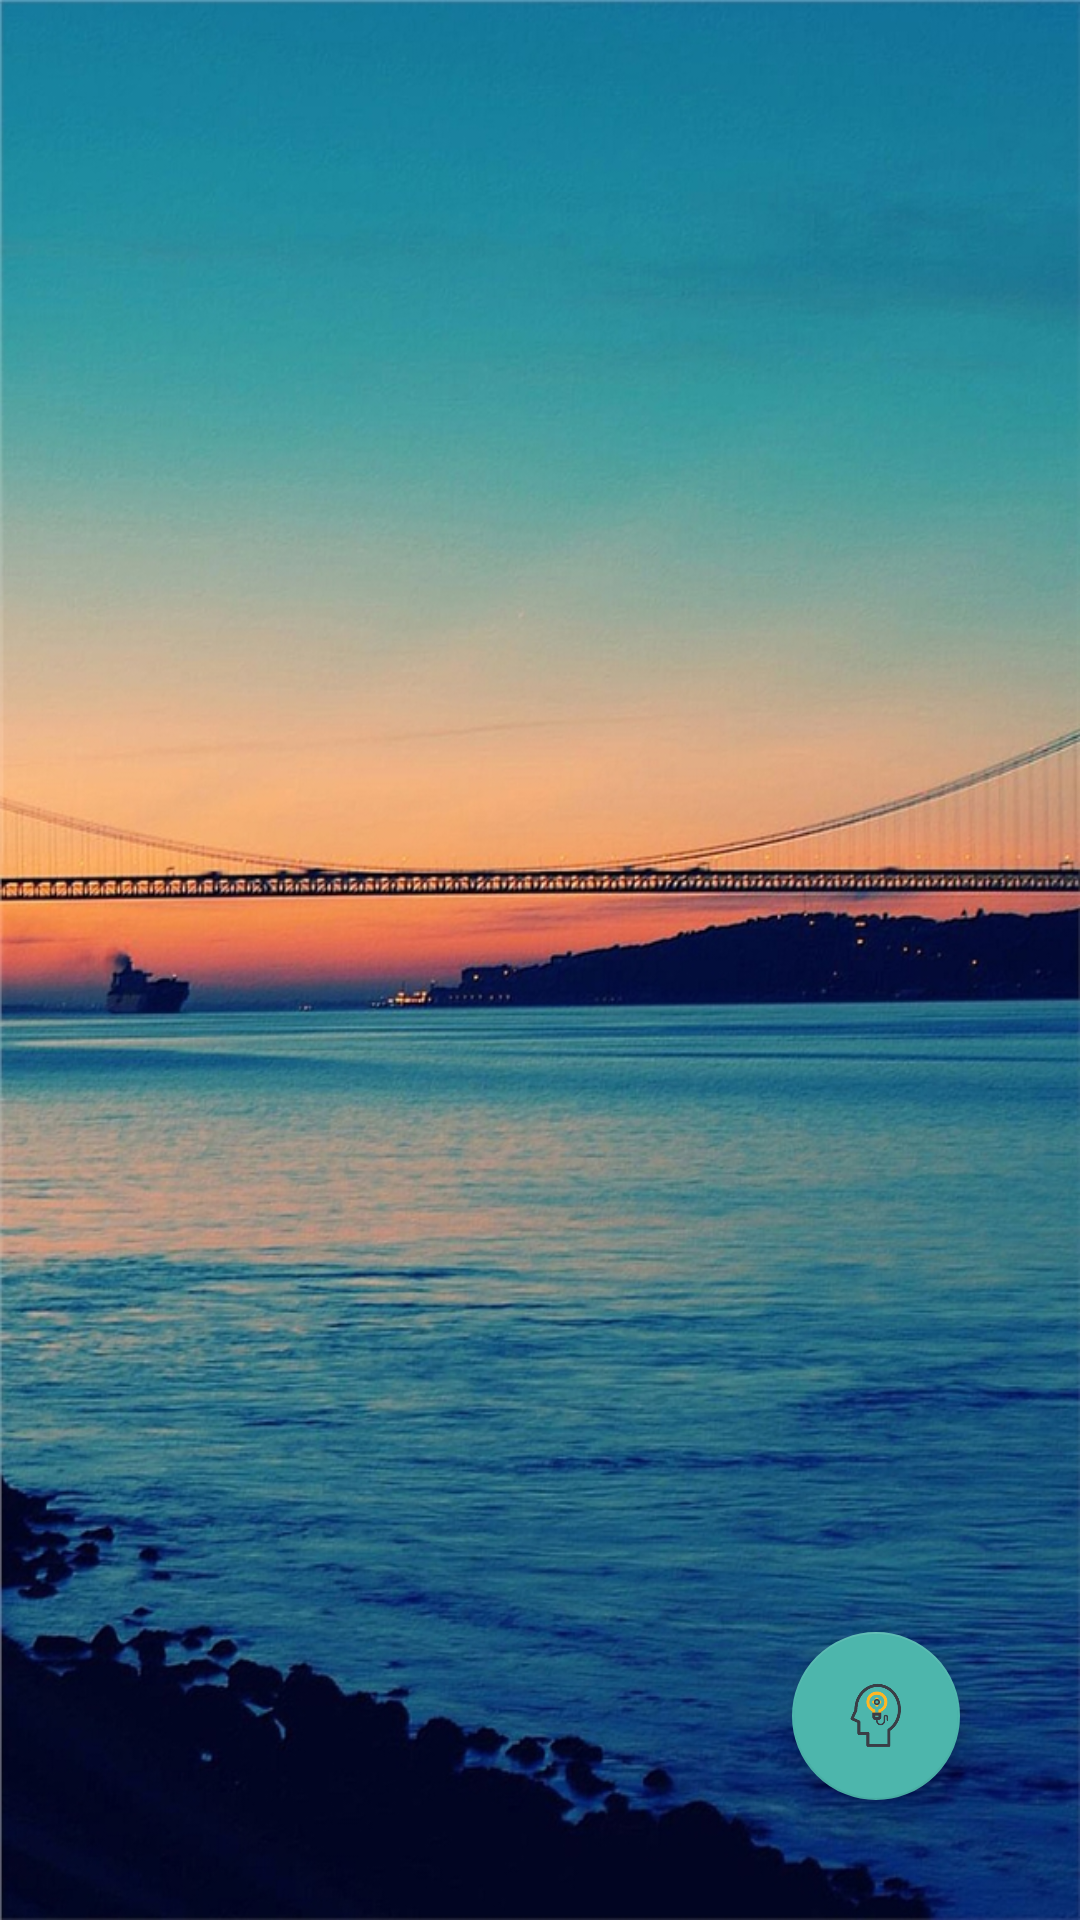

Screen size 1080 × 1920. Icon name, then its center in pixels as (x,y):
idea: (876,1716)
